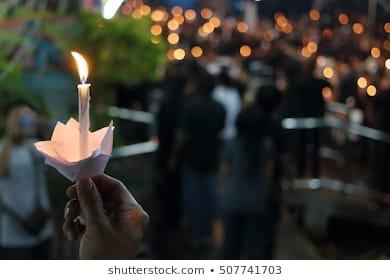fire: (68, 49, 91, 84)
